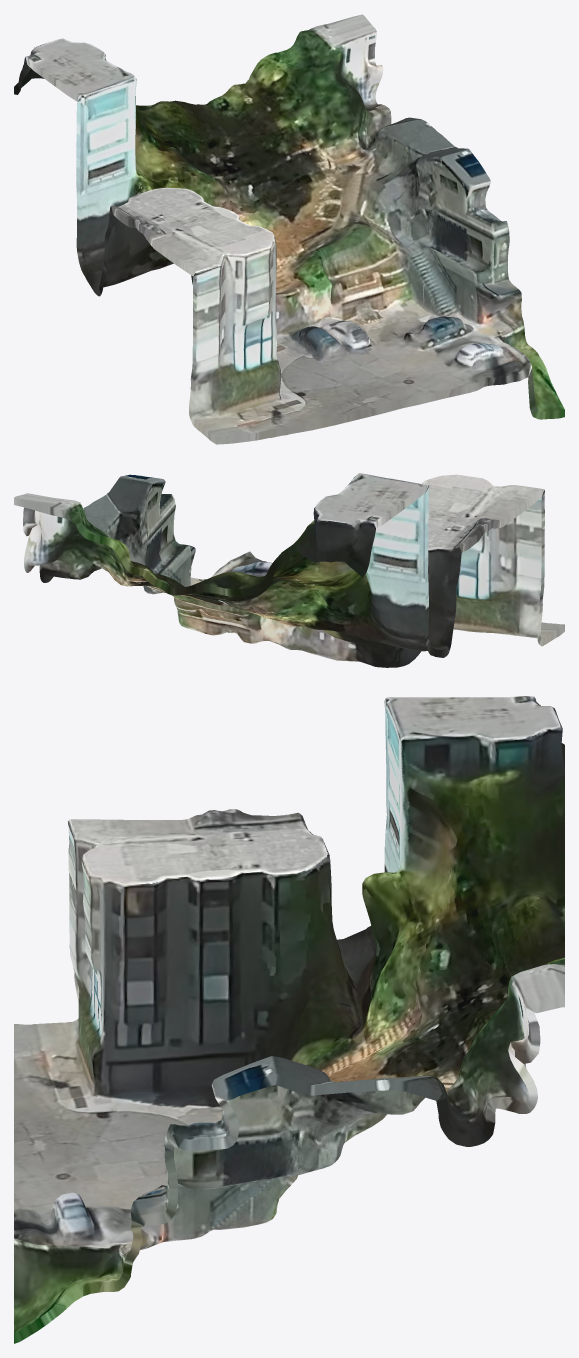
The model's file is z20-167757-405193-h0-yup-uvflip-v3-world.glb.
The picture shows the model from 3 angles, top to bottom: view 1: azimuth 30°, elevation 25°; view 2: azimuth 150°, elevation 25°; view 3: azimuth 270°, elevation 25°; orthographic projection. The views are drawn at different scales.
Bounding box in the file's own units: 30.16 × 25.32 × 30.32.
Materials: 1 (1 with a texture image).
